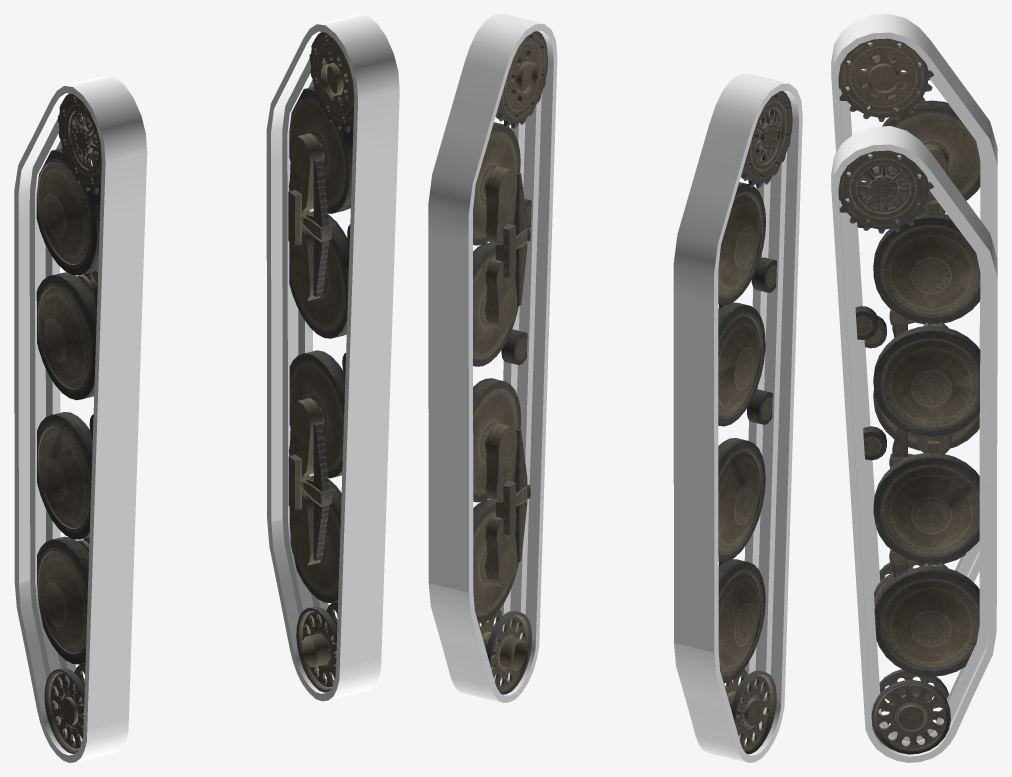
File: Chassis.glb
3 renders of one model, left to right at view 1: azimuth 30°, elevation 25°; view 2: azimuth 150°, elevation 25°; view 3: azimuth 270°, elevation 25°, orthographic. The views are drawn at different scales.
Visible parts, largest first — view 1: set_3_group_0, set_2_group_0, set_0_group_0, set_1_group_0; view 2: set_3_group_0, set_2_group_0, set_0_group_0, set_1_group_0; view 3: set_0_group_0, set_2_group_0, set_1_group_0, set_3_group_0.
Boxes of the visible parts, x1,y1,x2,y2 form: set_3_group_0: (14,75,147,762); set_2_group_0: (266,14,399,701); set_0_group_0: (288,32,354,692); set_1_group_0: (36,93,101,754); set_3_group_0: (673,74,802,762); set_2_group_0: (428,14,557,702); set_0_group_0: (473,31,547,694); set_1_group_0: (718,91,792,754); set_0_group_0: (838,150,980,754); set_2_group_0: (831,126,997,762); set_1_group_0: (838,38,980,606); set_3_group_0: (831,14,997,591).
Size of the model in its own units: 2.06 by 4.55 by 1.11.
Materials: 4 (2 with a texture image).
